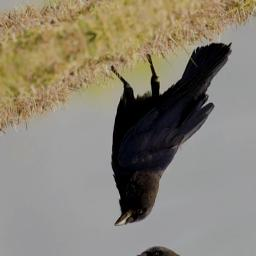Crow: (59, 20, 256, 233)
